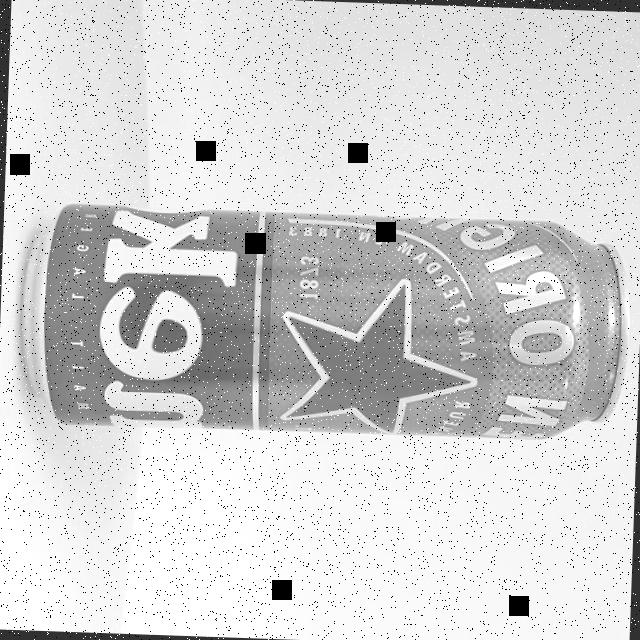can: (18, 202, 634, 442)
